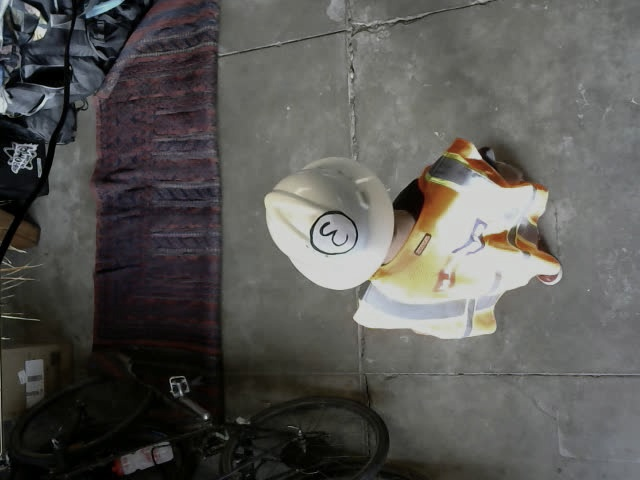three: (310, 210, 358, 254)
